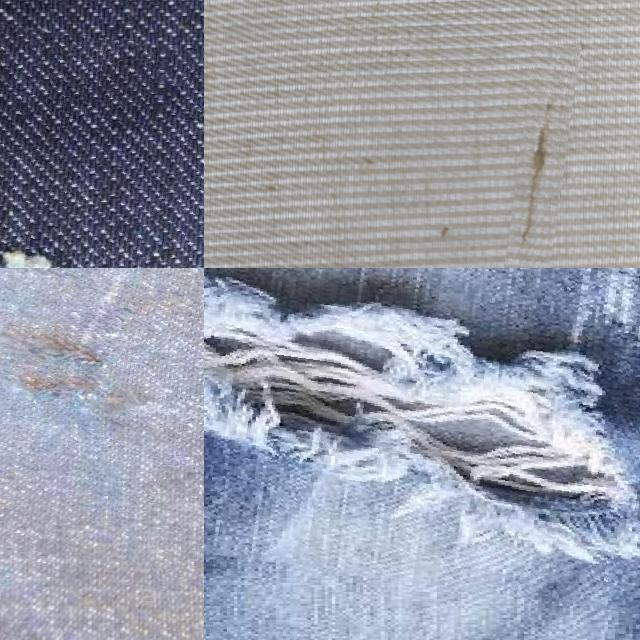Thread_other: (0, 268, 204, 598), (0, 30, 204, 268), (507, 42, 571, 268)
seam: (204, 268, 640, 598)
